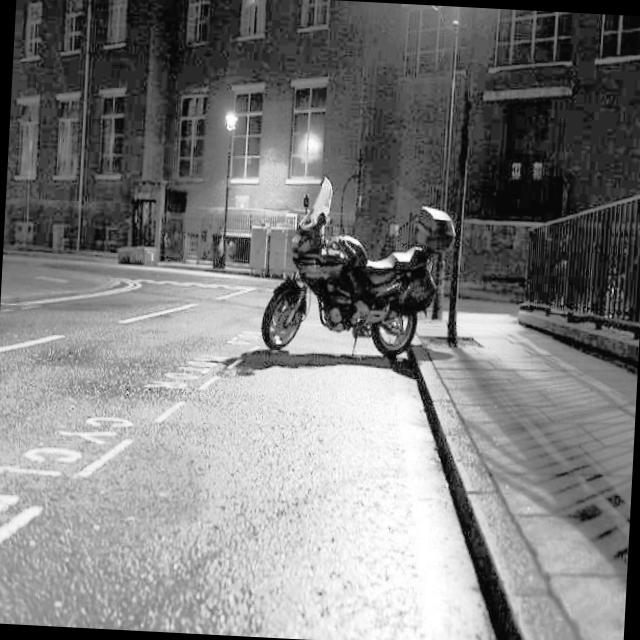Motorcycle: (225, 182, 472, 396)
